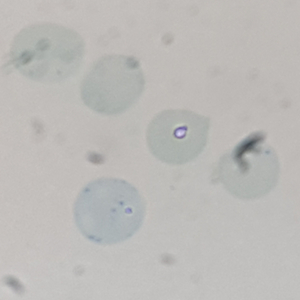erythrocyte: (7, 21, 88, 84), (78, 52, 149, 118), (144, 107, 214, 168)
punctate reticulocyte: (71, 173, 148, 246), (213, 138, 284, 202)
